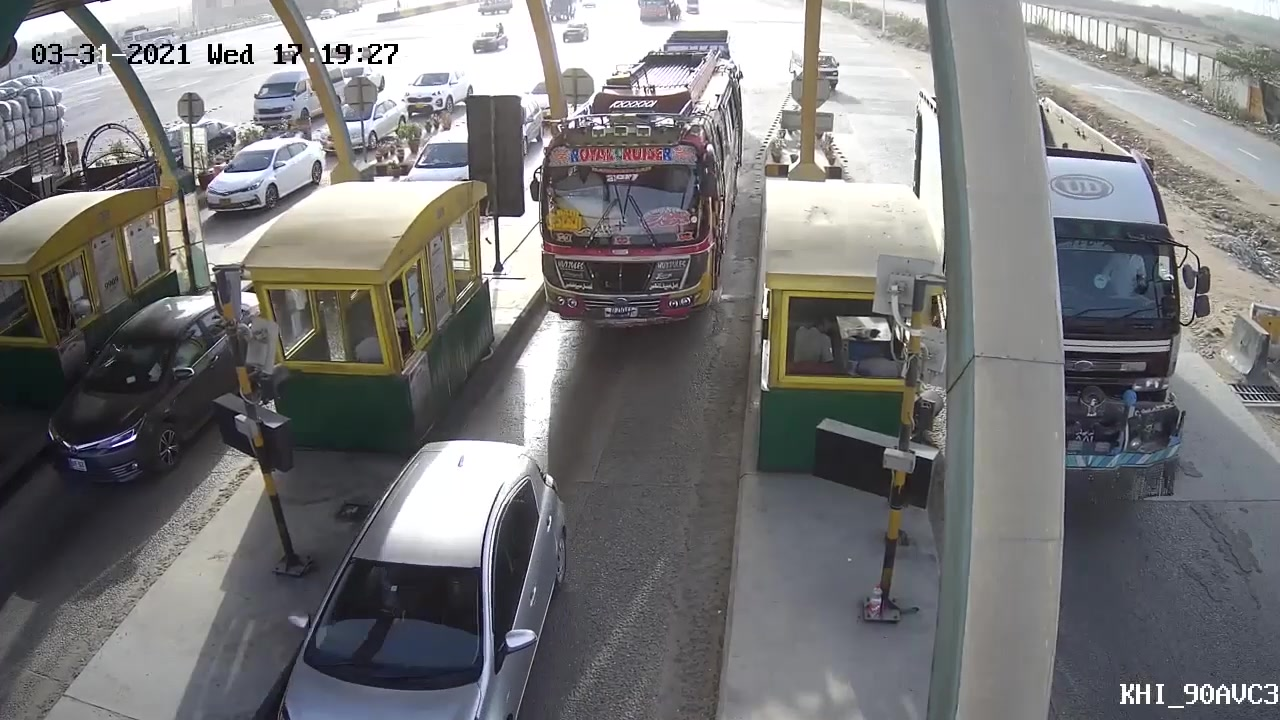F4: (529, 85, 740, 329)
